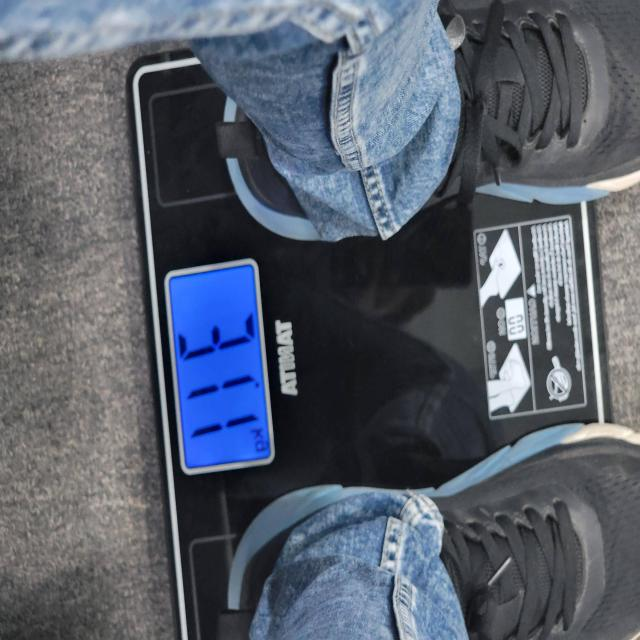ws: (164, 259, 276, 477)
